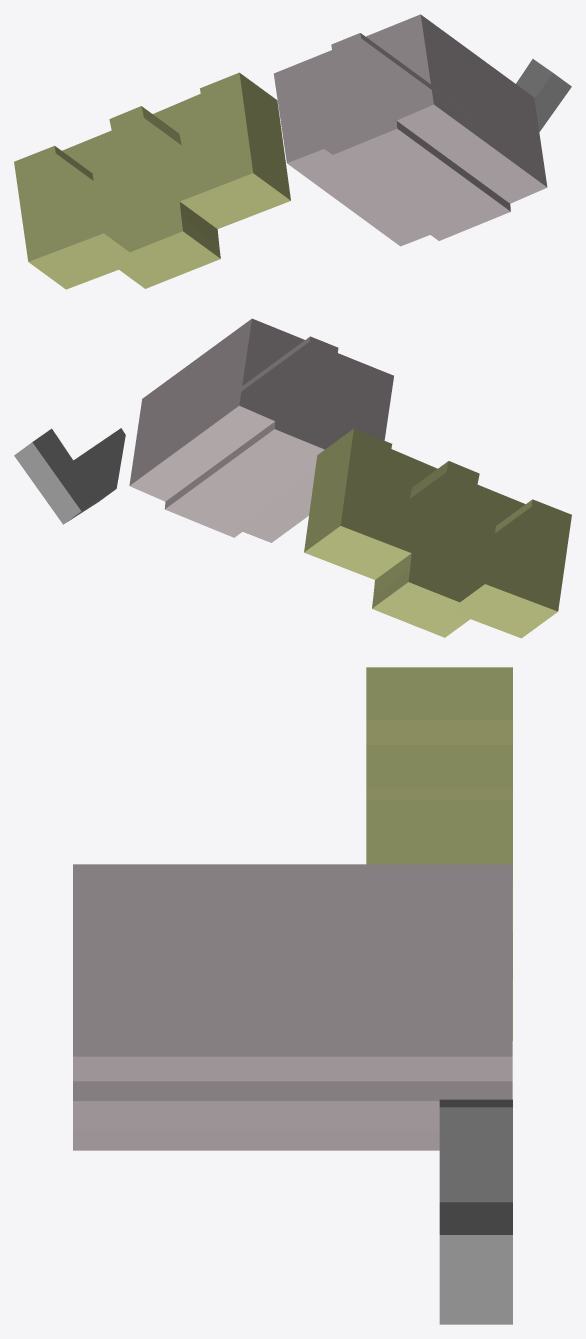
3 views of the same model, one above another, from view 1: azimuth 30°, elevation 25°; view 2: azimuth 150°, elevation 25°; view 3: azimuth 270°, elevation 25° (orthographic). The views are drawn at different scales.
Parts seen in each view (by area): view 1: 0_1_2_0_3_0_2_1; view 2: 0_1_2_0_3_0_2_1; view 3: 0_1_2_0_3_0_2_1.
Part boxes in pixels (x1,y1,x2,y2): 0_1_2_0_3_0_2_1: [14, 14, 571, 289]; 0_1_2_0_3_0_2_1: [14, 318, 571, 638]; 0_1_2_0_3_0_2_1: [73, 667, 512, 1324].
Bounding box in the file's own units: 49.31 × 14.92 × 18.01.
